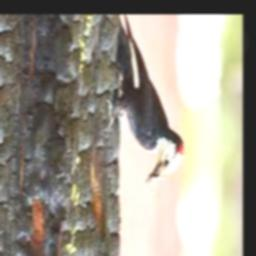Woodpecker: (104, 14, 182, 188)
